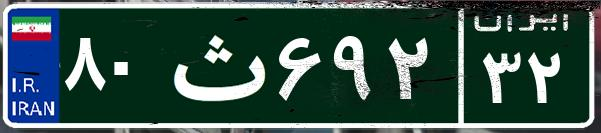0: (110, 28, 158, 105)
2: (385, 28, 445, 110), (525, 38, 570, 115)
3: (475, 38, 525, 113)
6: (273, 28, 330, 110)
8: (57, 26, 110, 107)
9: (330, 28, 385, 110)
ث: (158, 15, 273, 115)
